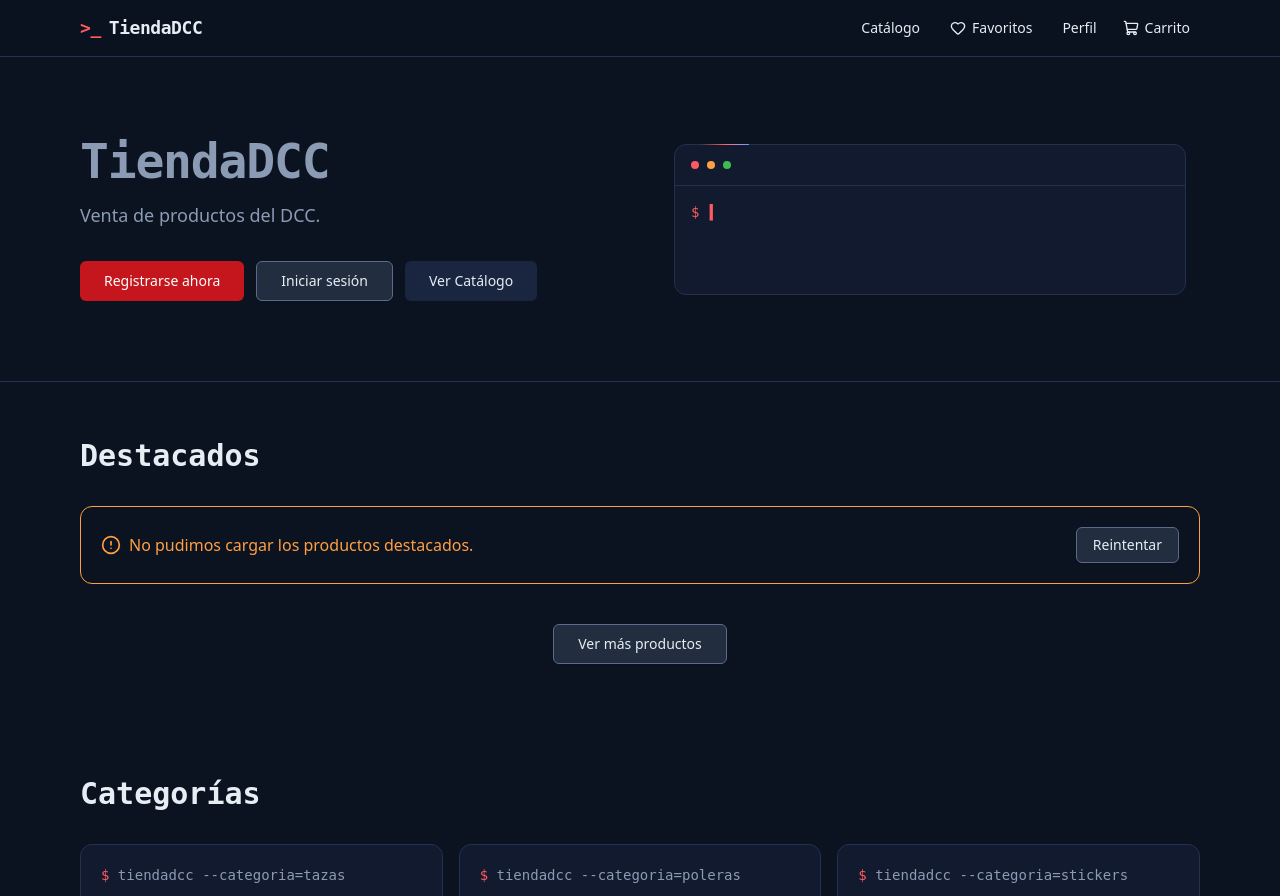
App › navigates to register without reloading and back via the logo
This screenshot has width=1280, height=896.
Click the link "Registrarse ahora".
click(162, 281)  # box [80, 261, 244, 301]
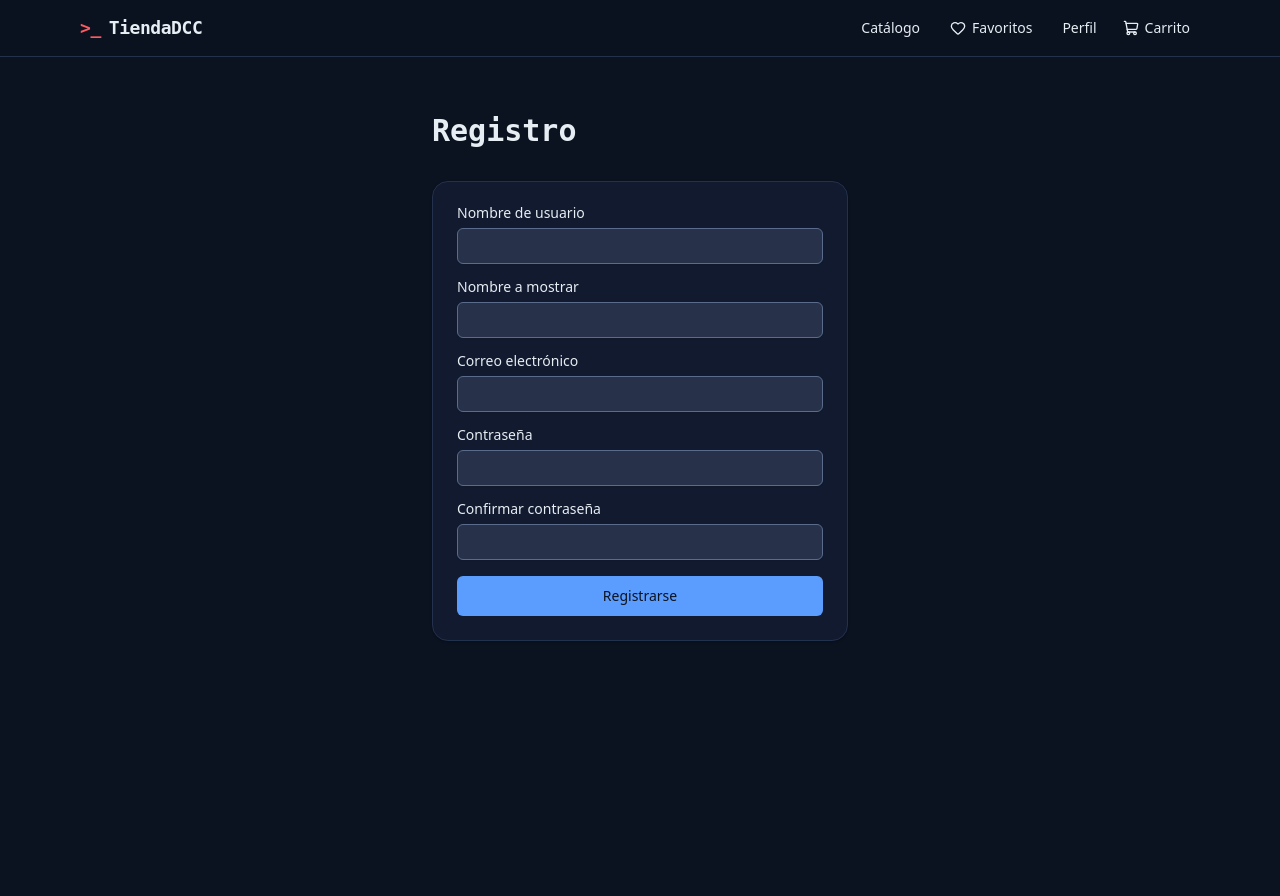
Expected: the heading "Registro" is shown, [432, 113, 576, 148]
Click the link ">_TiendaDCC".
click(141, 28)  # box [80, 14, 202, 42]
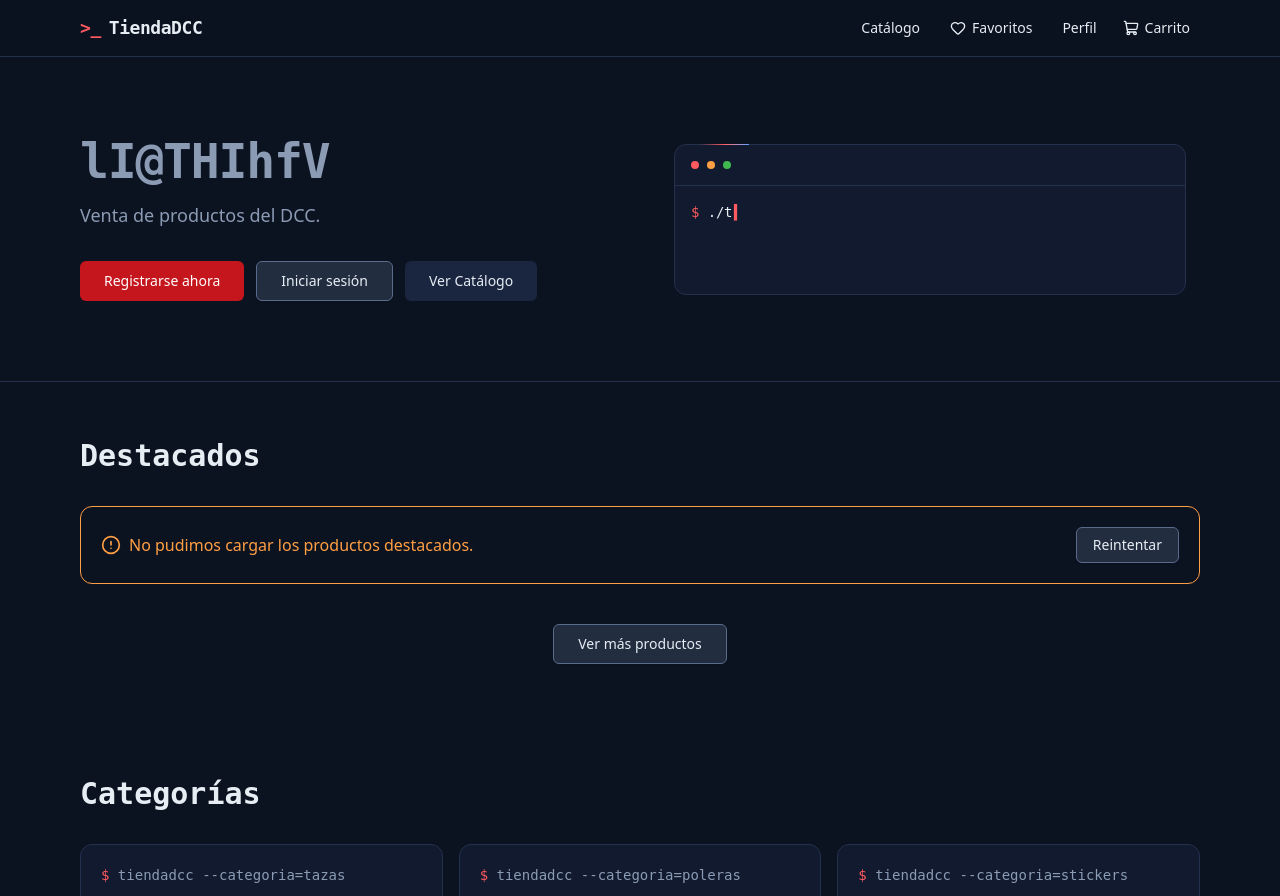
Expected: the heading named "TiendaDCC" is shown, [79, 132, 329, 189]
